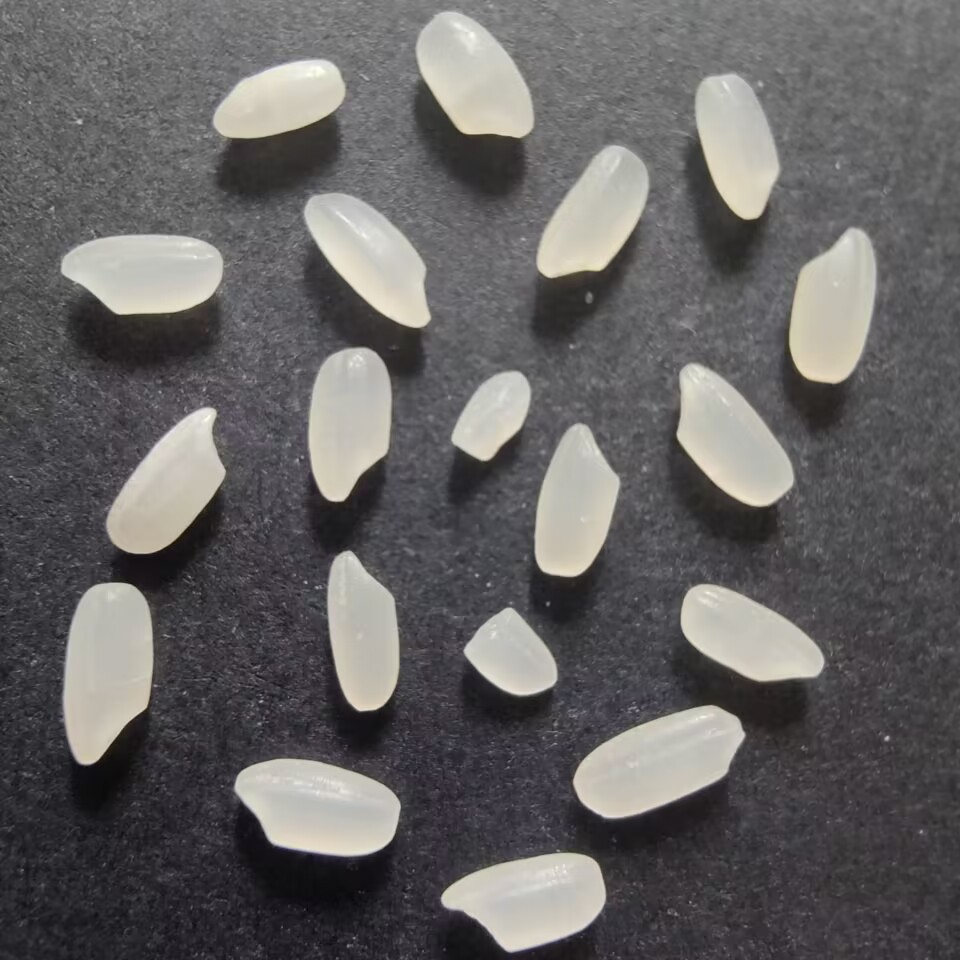broken: (454, 602, 560, 699), (448, 360, 539, 465)
rice: (568, 703, 756, 823), (222, 750, 409, 864), (670, 358, 800, 512), (58, 576, 160, 771), (104, 401, 226, 562), (433, 849, 617, 953), (300, 190, 436, 326), (530, 139, 651, 285), (51, 229, 230, 326), (527, 415, 629, 580), (677, 583, 833, 689), (412, 8, 535, 141), (317, 547, 410, 716), (786, 225, 881, 386), (689, 68, 785, 224), (306, 346, 397, 509), (205, 52, 349, 144)
